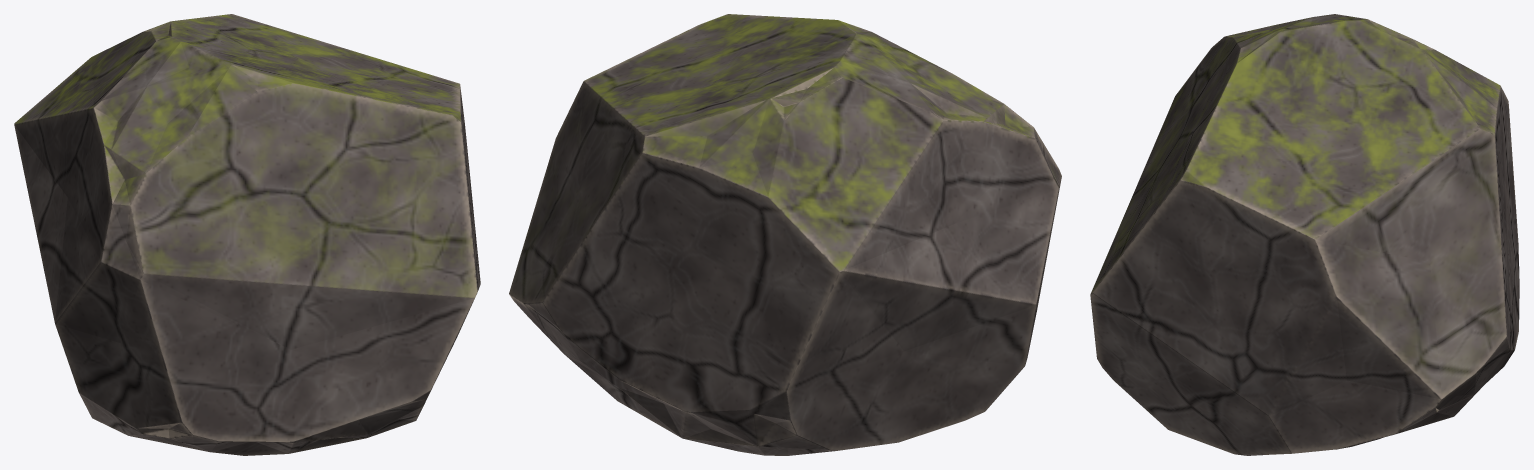
File: Stone_Small_A.fbx
The picture shows the model from 3 angles, left to right: view 1: azimuth 30°, elevation 25°; view 2: azimuth 150°, elevation 25°; view 3: azimuth 270°, elevation 25°; orthographic projection. The views are drawn at different scales.
Parts seen in each view (by area): view 1: Stone_Small_A; view 2: Stone_Small_A; view 3: Stone_Small_A.
Part boxes in pixels (<box>): Stone_Small_A: <box>14,14,480,455</box>; Stone_Small_A: <box>509,14,1061,455</box>; Stone_Small_A: <box>1090,14,1519,455</box>.
Bounding box in the file's own units: 0.3464 × 0.2634 × 0.3016.
